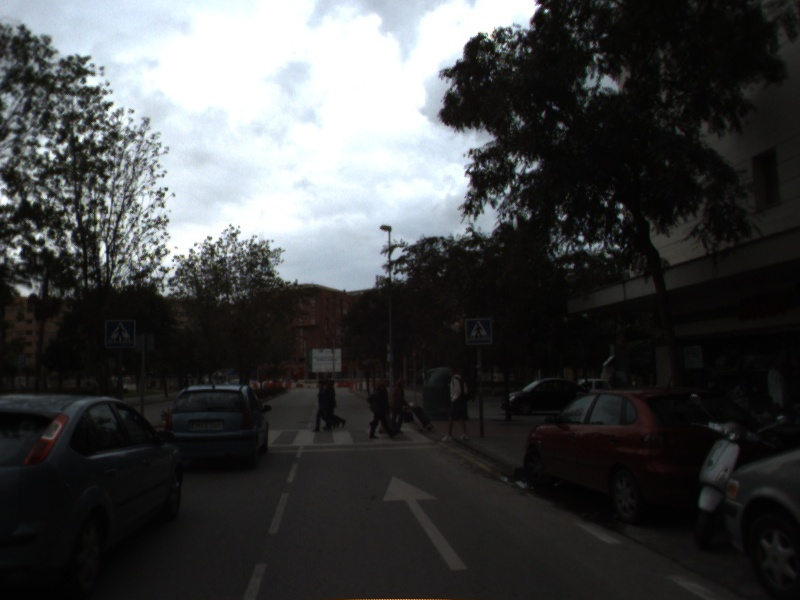STRAIGHT: (380, 473, 470, 573)
